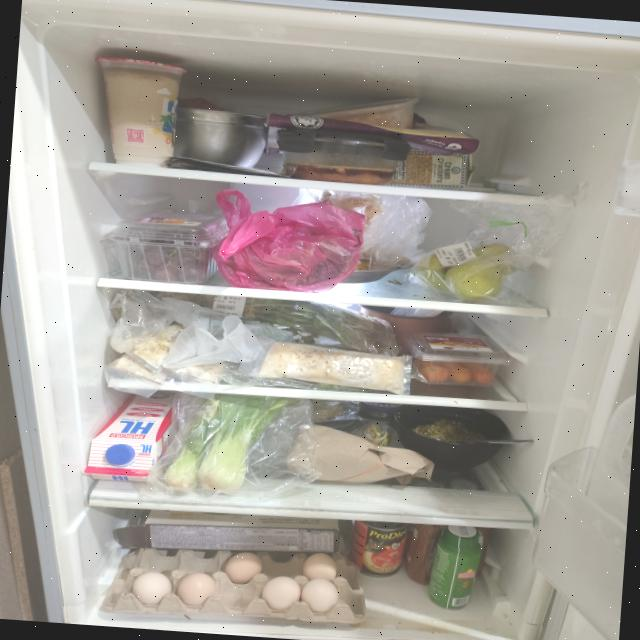apple: (410, 237, 520, 304)
egg: (102, 538, 372, 630)
grape: (136, 226, 207, 283)
leafy_greens: (170, 292, 402, 355)
pakchoy: (161, 388, 302, 501)
tempeh: (106, 317, 232, 388), (254, 340, 407, 395)
unknown_bag: (208, 187, 366, 296)
